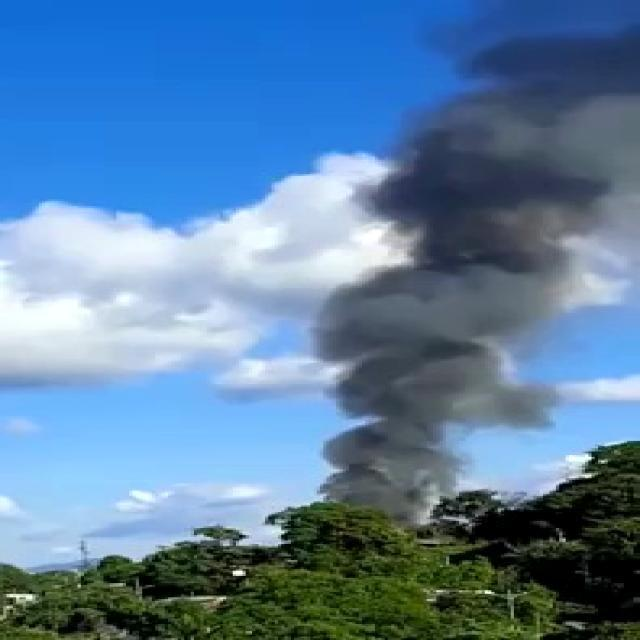Smoke: (323, 64, 640, 516)
